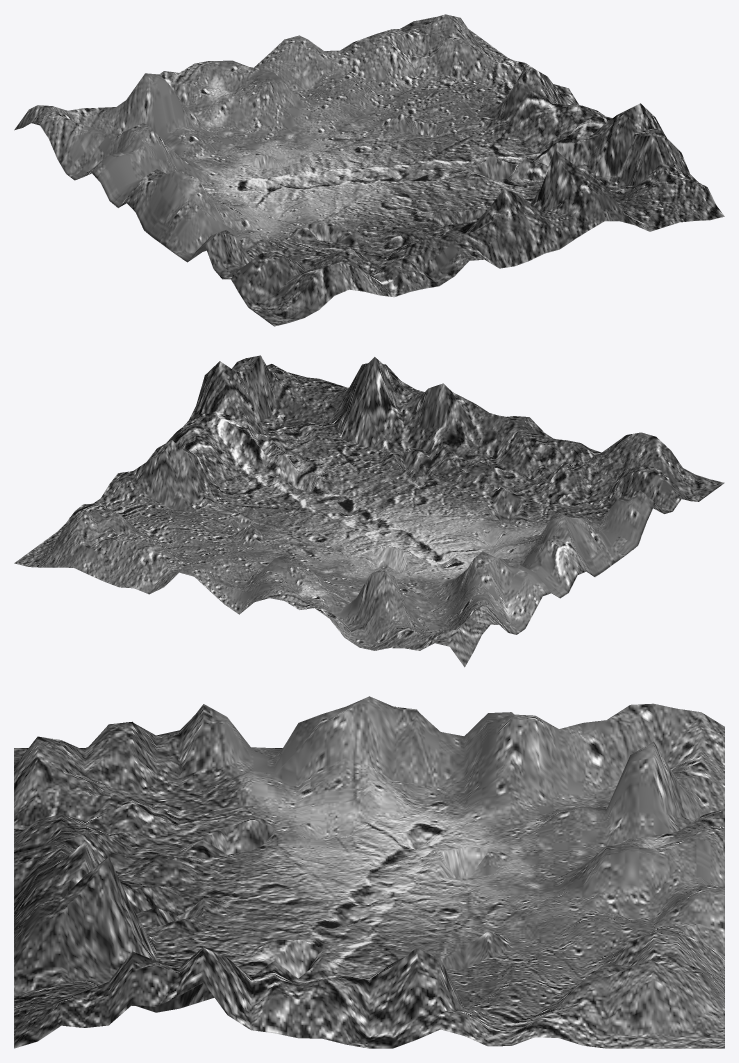
Rendered from moonlandscape.FBX.
The picture shows the model from 3 angles, top to bottom: view 1: azimuth 30°, elevation 25°; view 2: azimuth 150°, elevation 25°; view 3: azimuth 270°, elevation 25°; orthographic projection. The views are drawn at different scales.
Parts seen in each view (by area): view 1: Craterbase; view 2: Craterbase; view 3: Craterbase.
Part boxes in pixels (<box>): Craterbase: <box>14,14,724,326</box>; Craterbase: <box>14,355,724,667</box>; Craterbase: <box>14,696,724,1048</box>.
Size of what is drawn, in the model's own units: 140 by 30.89 by 140.
1 material, 1 textured.
